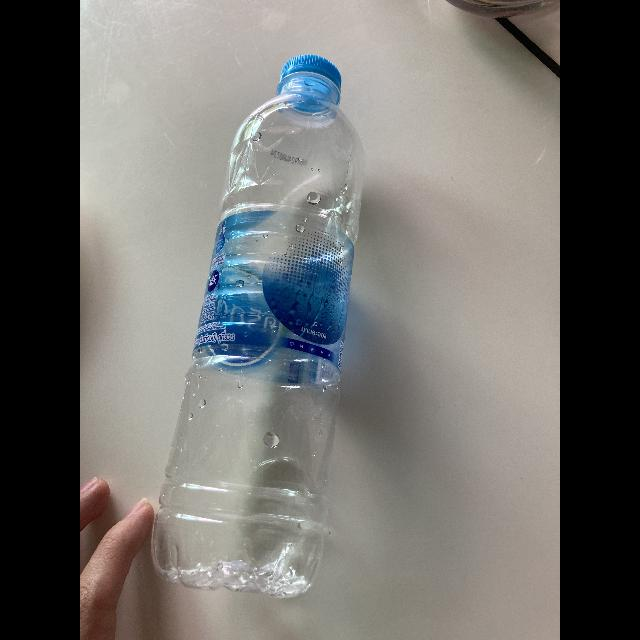plastic_bottle: (150, 51, 374, 612)
